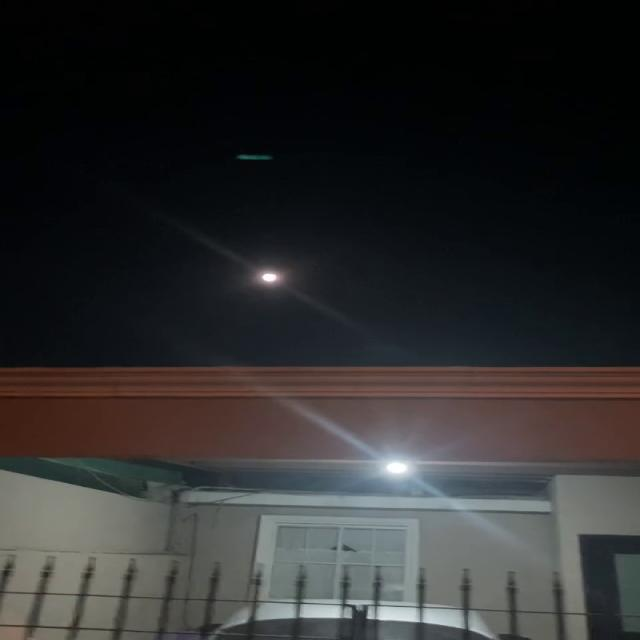moon: (250, 267, 284, 288)
